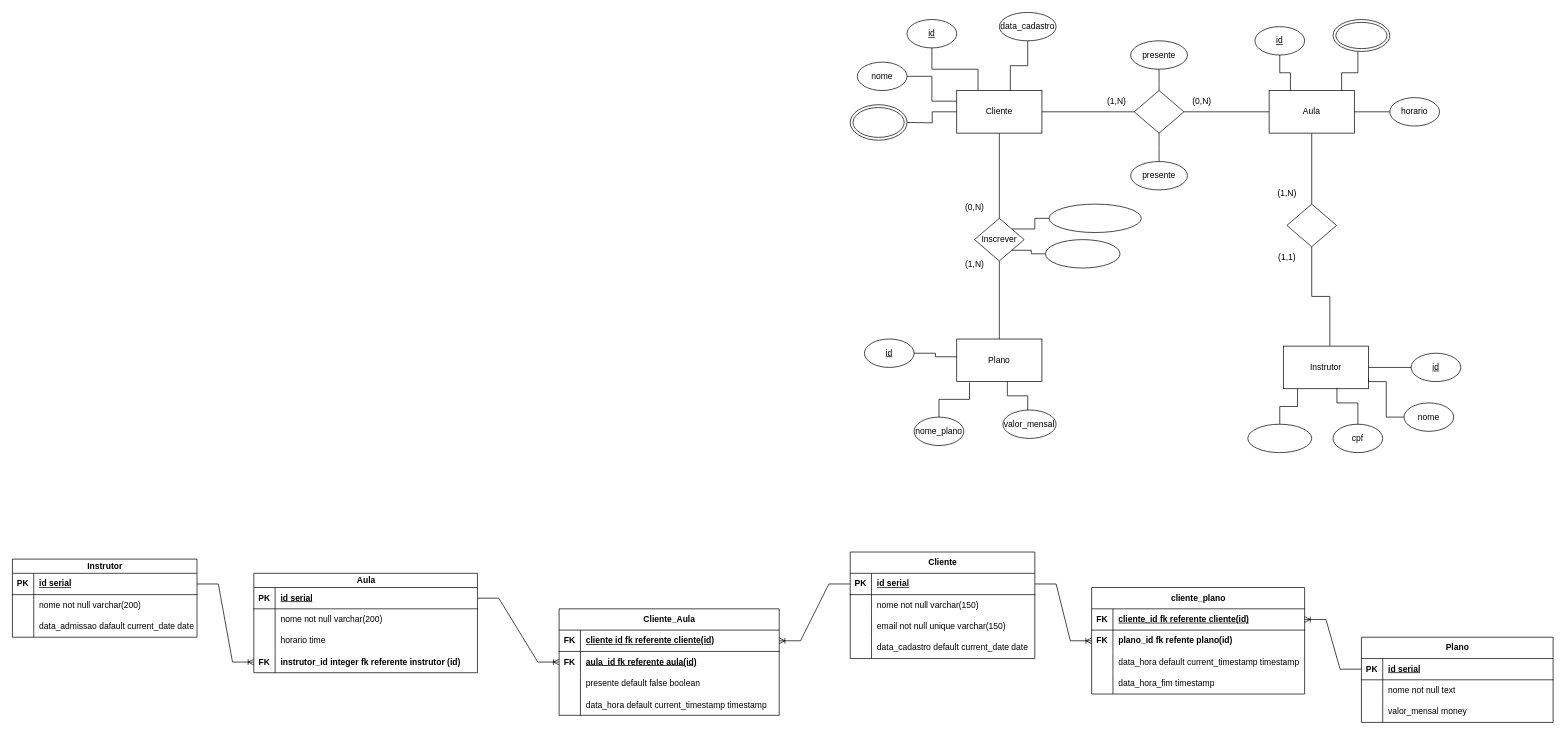
Image size: 1566x735. Some labels were removed from this diagram. The centre of each missing label's shape, as x and y in pixels:
"data_admissao" goes at pixel 1279 438.
"data_hora_fim" goes at pixel 1082 253.
"data_hora_inscricao" goes at pixel 1094 218.
"Email" goes at pixel 878 122.
"Ministrar" goes at pixel 1311 225.
"nome_aula" goes at pixel 1361 35.
"Participar" goes at pixel 1159 111.
